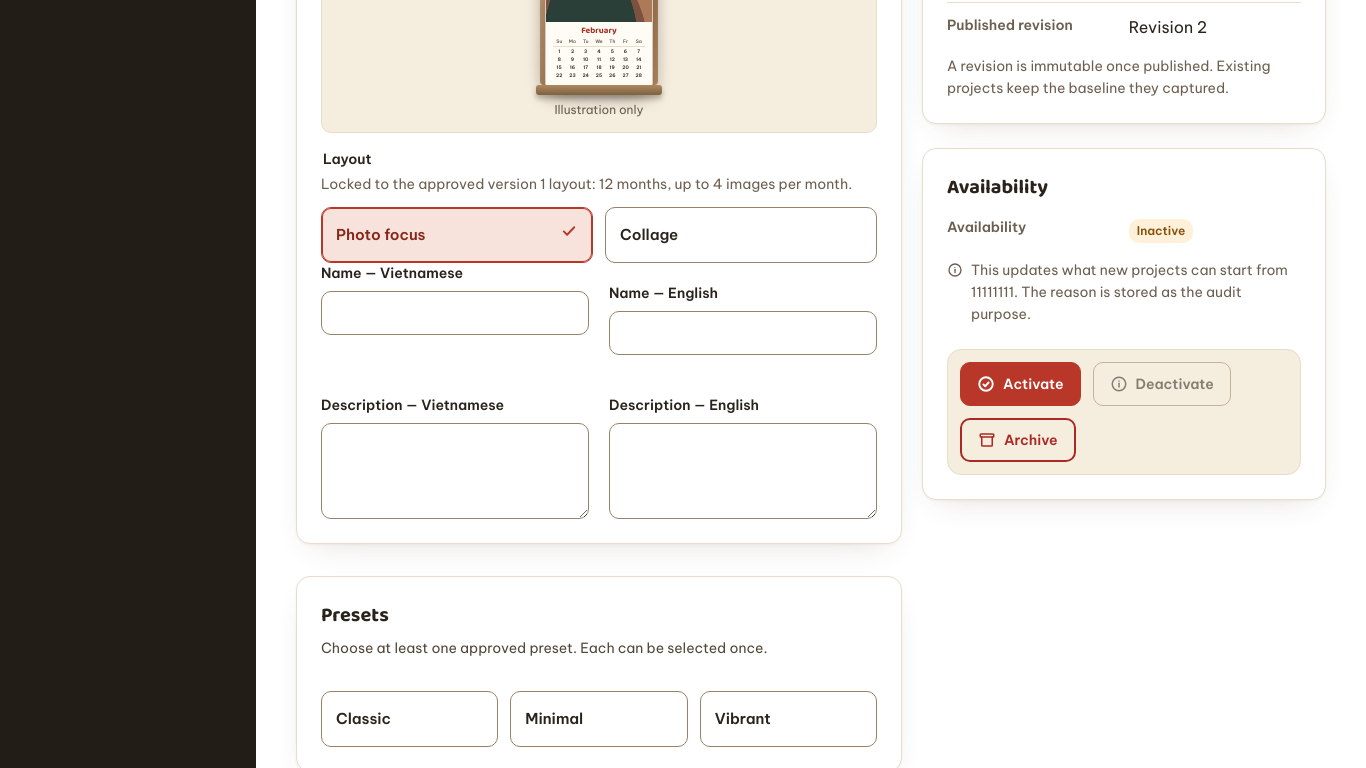
Test: admin template detail publication and conflict (F3/F5/F6/F7) › requires the availability reason and sends it with If-Match (F4)
The image size is (1366, 768).
(page scrolled)
Click the button with test id "availability-active" at (1020, 384), box [960,362,1080,406]
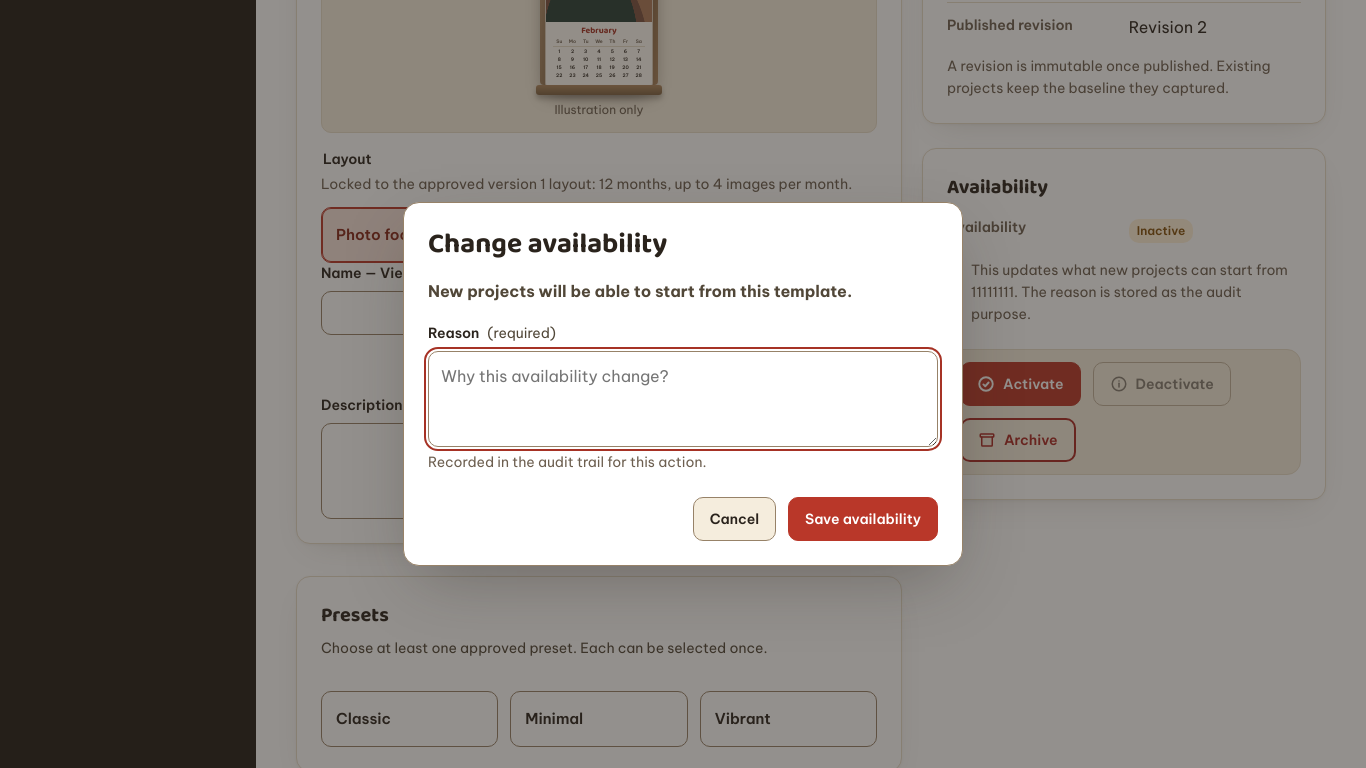
expect the dialog shows "New projects will be able to start from this template.": met, box [428,281,852,301]
Click the button with test id "availability-confirm" at (863, 519), box [788,497,938,541]
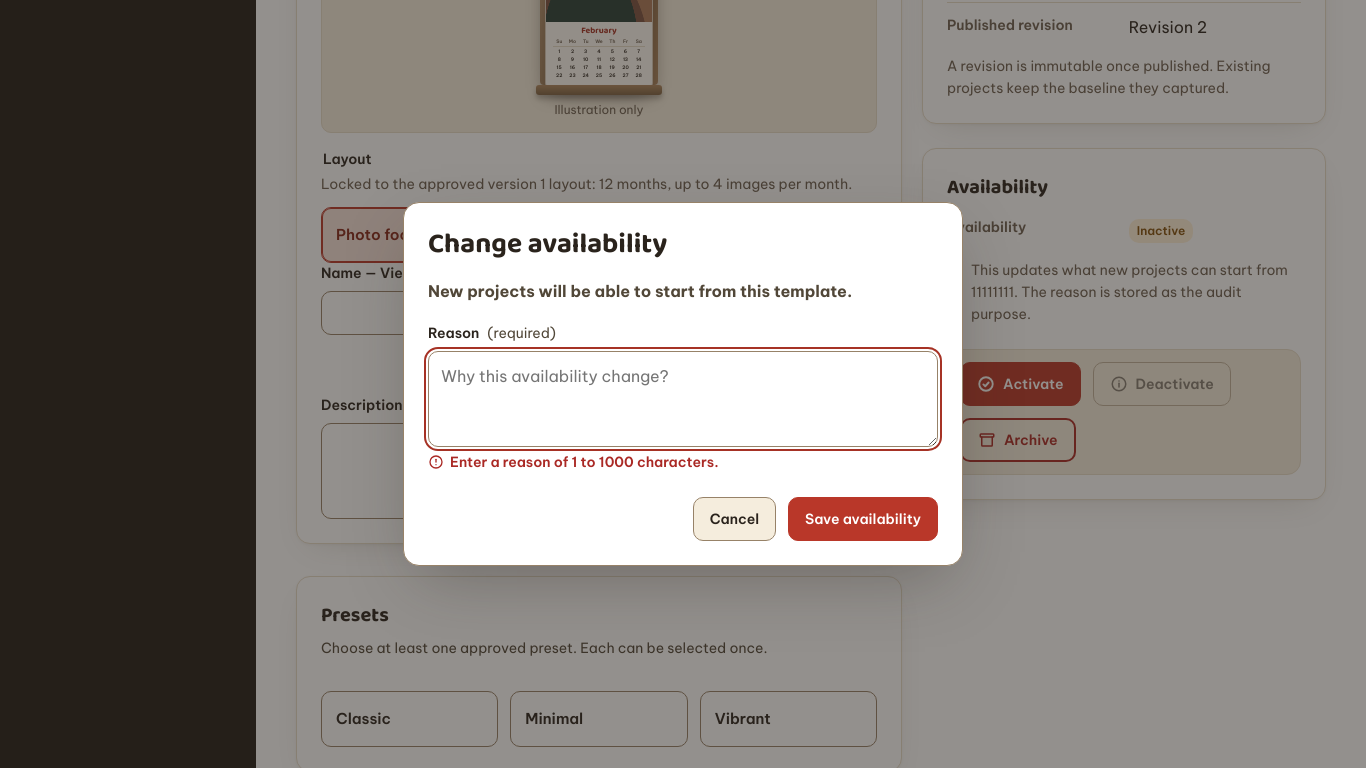
expect the text "Enter a reason of 1 to 1000 characters." is shown: met, box [428,453,719,471]
Type "Catalog review complete" into the text box labelled "Reason (required)" at (683, 399), box [428,351,938,447]
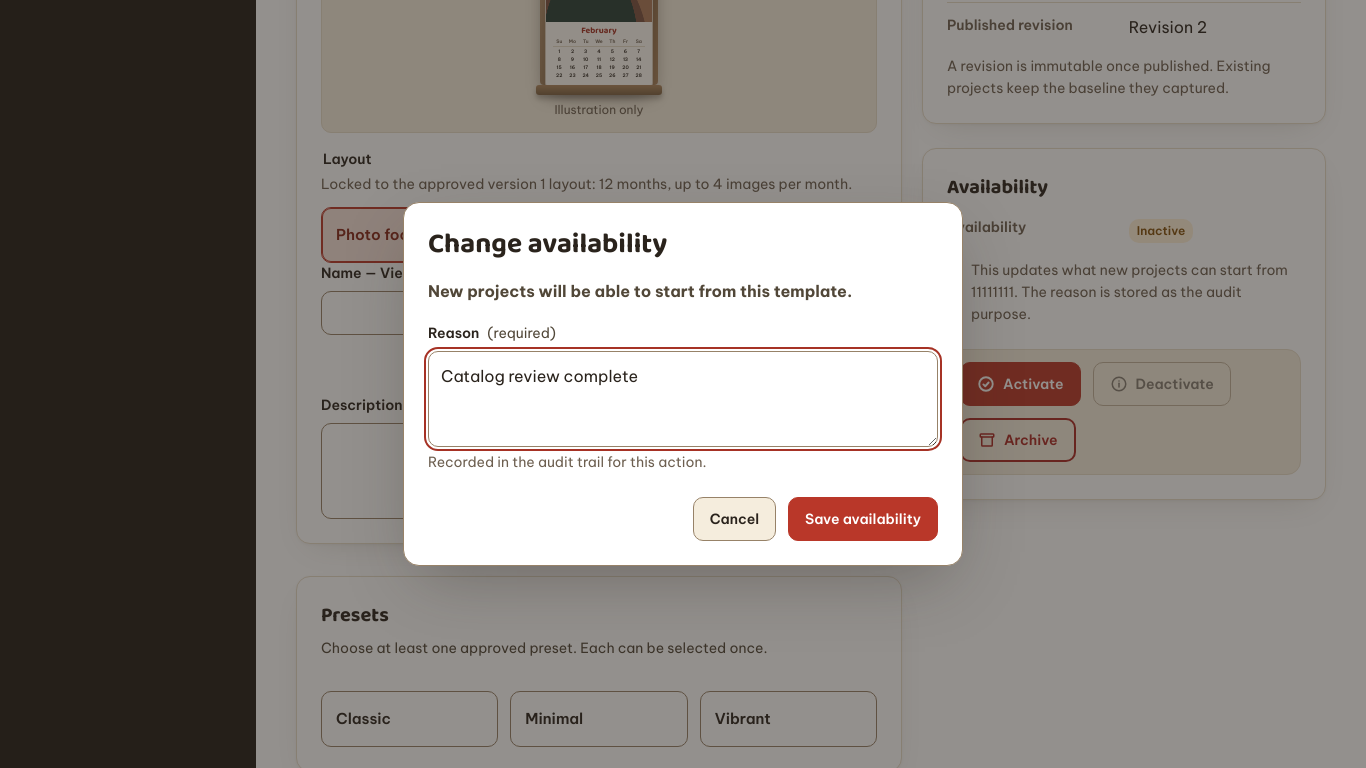
Click the button with test id "availability-confirm" at (863, 519), box [788,497,938,541]
(page scrolled)
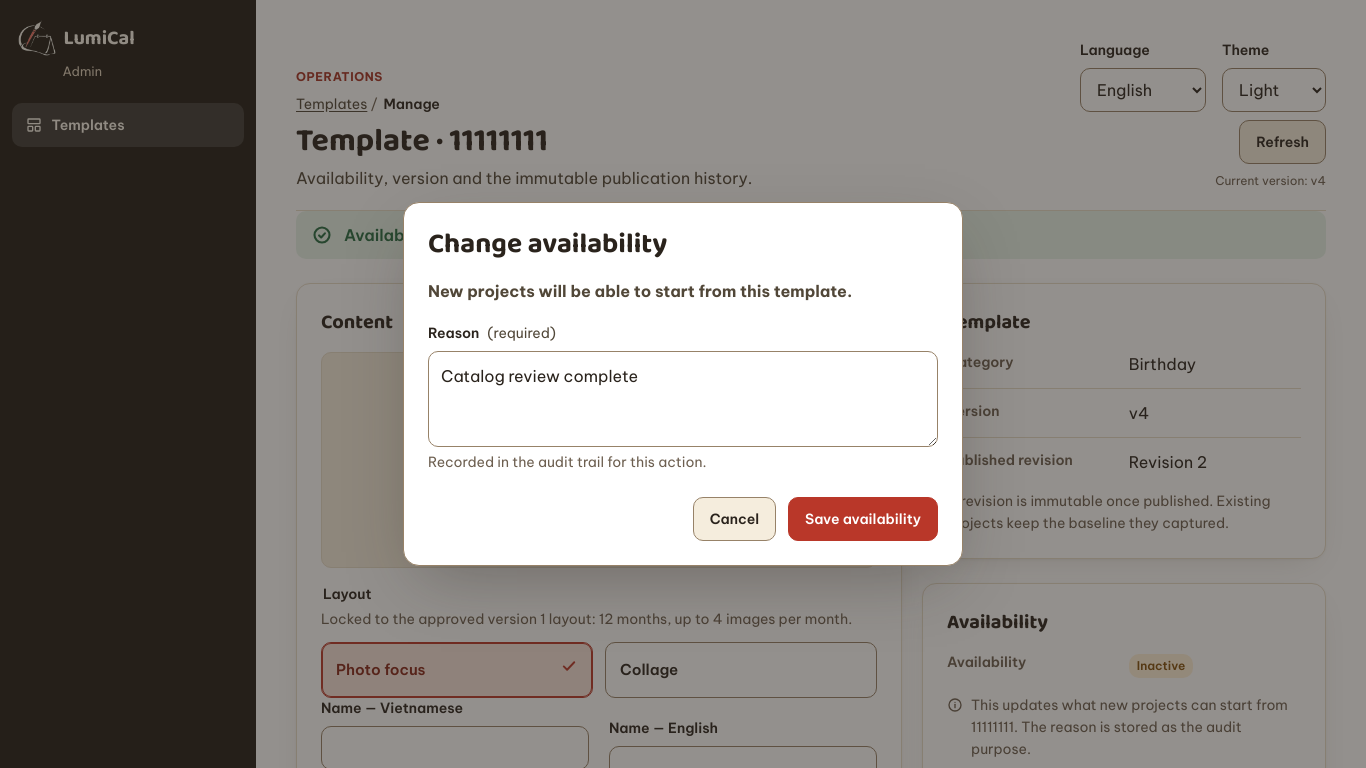
expect the message with test id "command-notice" reads "Availability set to Active.": met, box [344,225,545,245]
